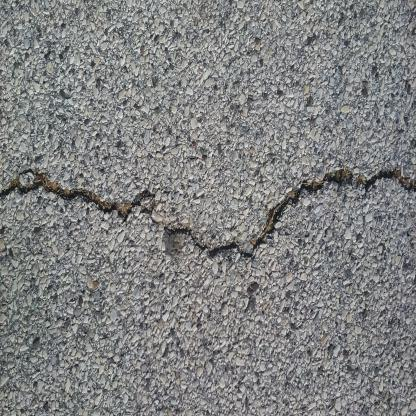Cracks: (0, 147, 416, 269)
